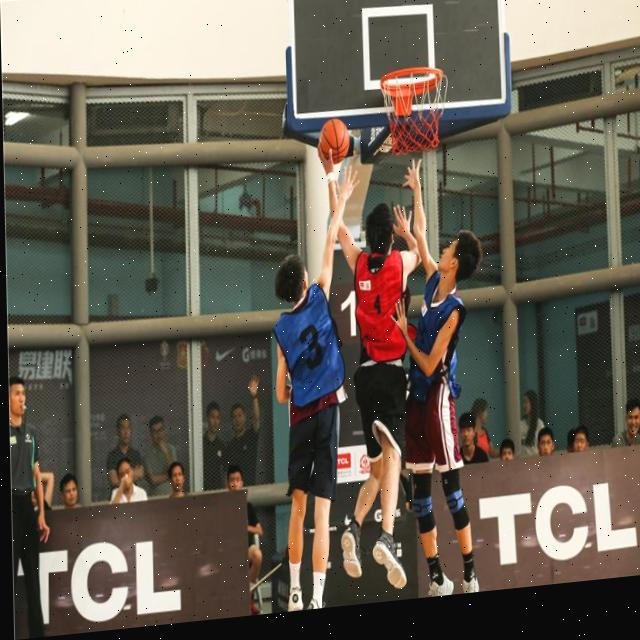basketball: (319, 115, 351, 166)
hoop: (379, 61, 450, 159)
